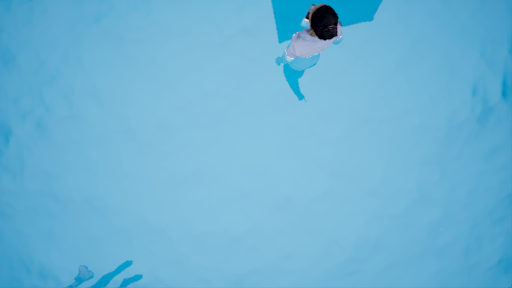person: (273, 6, 348, 102)
